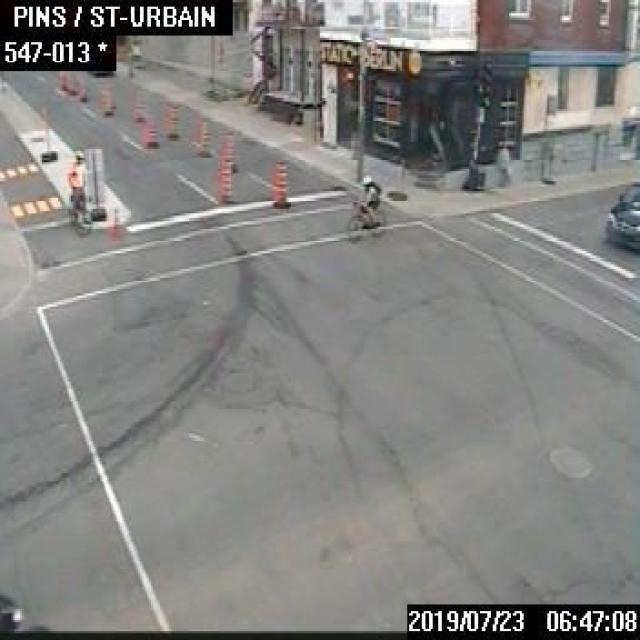construction: (271, 158, 289, 207), (96, 76, 113, 116), (219, 133, 235, 171), (218, 159, 232, 202), (144, 111, 158, 145), (165, 103, 178, 137), (198, 124, 211, 155), (132, 89, 144, 120), (67, 72, 77, 93), (58, 69, 68, 89), (78, 80, 86, 100)
cyclist: (346, 173, 384, 240), (66, 149, 92, 234)
pedestrian: (620, 100, 638, 158), (493, 142, 511, 189)
vehicle: (604, 180, 638, 251), (0, 589, 22, 631)
